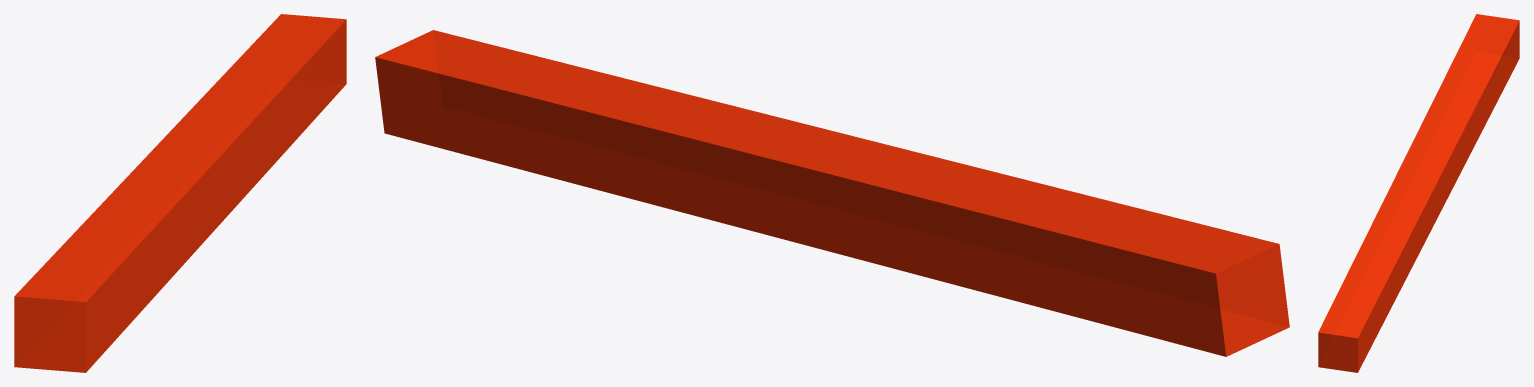
The model's file is Event_421556567_EErechit_6.fbx.
3 views of the same model, side by side, from view 1: azimuth 90°, elevation 25°; view 2: azimuth 150°, elevation 25°; view 3: azimuth 270°, elevation 25° (orthographic). The views are drawn at different scales.
Visible parts, largest first — view 1: Model; view 2: Model; view 3: Model.
Part boxes in pixels (bbox=[...]): Model: bbox=[14, 14, 346, 372]; Model: bbox=[375, 30, 1289, 356]; Model: bbox=[1318, 14, 1519, 372].
Bounding box in the file's own units: 1.05 × 0.2172 × 0.3554.
